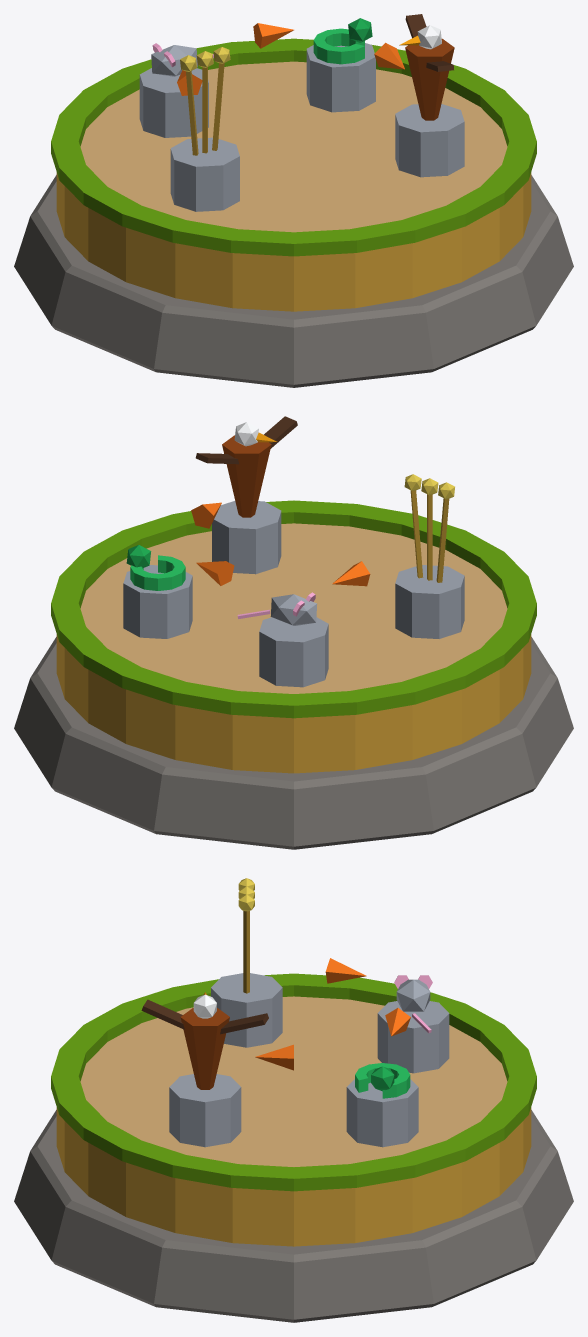
File: stasiun_rantai_makanan_v001.glb
The picture shows the model from 3 angles, top to bottom: view 1: azimuth 30°, elevation 25°; view 2: azimuth 150°, elevation 25°; view 3: azimuth 270°, elevation 25°; orthographic projection.
Parts seen in each view (by area): view 1: Stasiun_Rantai_Makanan; view 2: Stasiun_Rantai_Makanan; view 3: Stasiun_Rantai_Makanan.
Boxes of the visible parts, x1,y1,x2,y2 form: Stasiun_Rantai_Makanan: (14, 14, 573, 387); Stasiun_Rantai_Makanan: (14, 416, 573, 849); Stasiun_Rantai_Makanan: (14, 878, 573, 1322).
Size of the model in its own units: 2.03 by 1.06 by 2.03.
